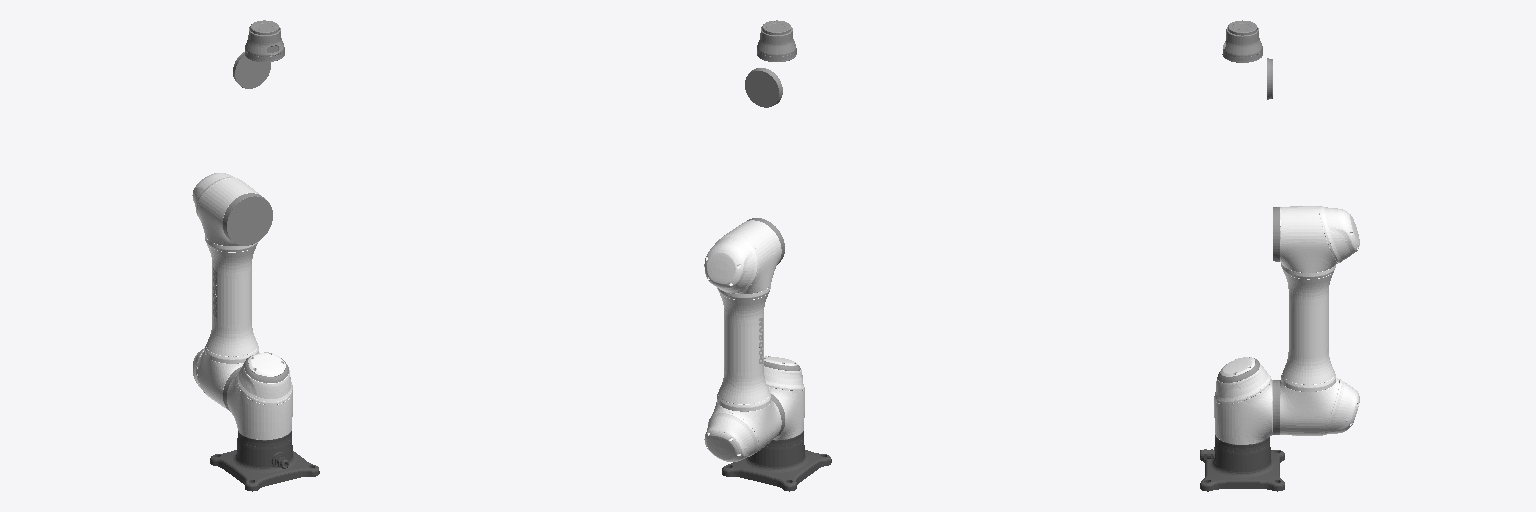
URDF robot description (a0509):
<?xml version="1.0"?>
<robot name="a0509" xmlns:xacro="http://www.ros.org/wiki/xacro">
		<link name="base_link">
			<inertial>
				<mass value="2.198"/>
				<origin xyz="-1e-06   -0.001096    0.058957"/>
				<inertia ixx="0.010511" ixy="4.9786e-06" ixz="7.1839e-06" iyy="0.012033"
					iyz="-2.3529e-05"
					izz="0.012481"/>
			</inertial>
			<collision>
				<origin rpy="0 0 0" xyz="0 0 0" />
                <geometry>
					<mesh filename="package://dsr_description2/meshes/a0509_collision/A0509_0_0.dae" scale="0.001 0.001 0.001" />
                </geometry>
            </collision>
			<visual>
				<origin rpy="0 0 0" xyz="0 0 0" />
				<geometry>
					<mesh filename="package://dsr_description2/meshes/a0509_white/A0509_0_0.dae" scale="0.001 0.001 0.001" />
				</geometry>
			</visual>
		</link>
		<link name="base"/>
		<joint name="base_link-base" type="fixed">
			<origin rpy="0 0 0" xyz="0 0 0.450"/>
			<parent link="base_link"/>
			<child link="base"/>
		</joint>
		<!-- joint 1 -->
		<joint name="joint_1" type="revolute">
			<parent link="base_link" />
			<child link="link_1" />
			<origin rpy="0 0 0" xyz="0 0 0.1560" />
			<axis xyz="0 0 1" />
			<limit effort="194" lower="-6.2832" upper="6.2832" velocity="3.1416"/>
			<dynamics friction="0" />
		</joint>
		<link name="link_1">
			<inertial>
				<mass value="3.715"/>
				<origin xyz="-6.9e-05    0.024423   -0.007375"/>
				<inertia ixx="0.01899" ixy="7.8574e-07" ixz="1.865e-05" iyy="0.013731" iyz="-0.00072828"
					izz="0.01686"/>
			</inertial>
            <collision>
				<origin rpy="0 0 0" xyz="0 0 0" />
                <geometry>
					<mesh filename="package://dsr_description2/meshes/a0509_collision/A0509_1_0.dae" scale="0.001 0.001 0.001" />
                </geometry>
            </collision>
			<visual>
				<origin rpy="0 0 0" xyz="0 0 0" />
				<geometry>
					<mesh filename="package://dsr_description2/meshes/a0509_white/A0509_1_0.dae" scale="0.001 0.001 0.001" />
				</geometry>
			</visual>
			<collision>
				<origin rpy="0 0 0" xyz="0 0 0" />
                <geometry>
					<mesh filename="package://dsr_description2/meshes/a0509_collision/A0509_1_1.dae" scale="0.001 0.001 0.001" />
                </geometry>
            </collision>
            <visual>
				<origin rpy="0 0 0" xyz="0 0 0" />
				<geometry>
					<mesh filename="package://dsr_description2/meshes/a0509_white/A0509_1_1.dae" scale="0.001 0.001 0.001" />
				</geometry>
			</visual>
			<collision>
				<origin rpy="0 0 0" xyz="0 0 0" />
                <geometry>
					<mesh filename="package://dsr_description2/meshes/a0509_collision/A0509_1_2.dae" scale="0.001 0.001 0.001" />
                </geometry>
            </collision>
            <visual>
				<origin rpy="0 0 0" xyz="0 0 0" />
				<geometry>
					<mesh filename="package://dsr_description2/meshes/a0509_white/A0509_1_2.dae" scale="0.001 0.001 0.001" />
				</geometry>
			</visual>
		</link>
		<!-- joint2 -->
		<joint name="joint_2" type="revolute">
			<parent link="link_1" />
			<child link="link_2" />
			<origin rpy="0 -1.571 -1.571" xyz="0 0 0" />
			<axis xyz="0 0 1" />
			<limit effort="194" lower="-6.2832" upper="6.2832" velocity="3.1416"/>
			<dynamics friction="0" />
		</joint>
		<link name="link_2">
			<inertial>
				<mass value="6.837"/>
				<origin xyz="0.20449 -1.2521e-17     0.13271"/>
				<inertia ixx="0.019399" ixy="0.00010317" ixz="4.2985e-06" iyy="0.25627" iyz="5.1674e-06"
					izz="0.25442"/>
			</inertial>
            <collision>
				<origin rpy="0 0 0" xyz="0 0 0" />
                <geometry>
					<mesh filename="package://dsr_description2/meshes/a0509_collision/A0509_2_0.dae" scale="0.001 0.001 0.001" />
                </geometry>
            </collision>
			<visual>
				<origin rpy="0 0 0" xyz="0 0 0" />
				<geometry>
					<mesh filename="package://dsr_description2/meshes/a0509_white/A0509_2_0.dae" scale="0.001 0.001 0.001" />
				</geometry>
			</visual>
			<collision>
				<origin rpy="0 0 0" xyz="0 0 0" />
                <geometry>
					<mesh filename="package://dsr_description2/meshes/a0509_collision/A0509_2_1.dae" scale="0.001 0.001 0.001" />
                </geometry>
            </collision>
			<visual>
				<origin rpy="0 0 0" xyz="0 0 0" />
				<geometry>
					<mesh filename="package://dsr_description2/meshes/a0509_white/A0509_2_1.dae" scale="0.001 0.001 0.001" />
				</geometry>
			</visual>
			<collision>
				<origin rpy="0 0 0" xyz="0 0 0" />
                <geometry>
					<mesh filename="package://dsr_description2/meshes/a0509_collision/A0509_2_2.dae" scale="0.001 0.001 0.001" />
                </geometry>
            </collision>
			<visual>
				<origin rpy="0 0 0" xyz="0 0 0" />
				<geometry>
					<mesh filename="package://dsr_description2/meshes/a0509_white/A0509_2_2.dae" scale="0.001 0.001 0.001" />
				</geometry>
			</visual>
		</link>
		<!-- joint3 -->
		<joint name="joint_3" type="revolute">
			<parent link="link_2" />
			<child link="link_3" />
			<origin rpy="0 0 1.571" xyz="0.409 0 0" />
			<axis xyz="0 0 1" />
			<limit effort="163" lower="-2.7925" upper="2.7925" velocity="3.1416"/>
			<dynamics friction="0" />
		</joint>
		<link name="link_3">
			<inertial>
				<mass value="2.769"/>
				<origin xyz="7.1e-05   -0.005123    0.033009"/>
				<inertia ixx="0.012526" ixy="-7.1869e-06" ixz="1.3345e-05" iyy="0.013868"
					iyz="-0.00047287"
					izz="0.0088186"/>
			</inertial>
			<collision>
				<origin rpy="0 0 0" xyz="0 0 0" />
                <geometry>
					<mesh filename="package://dsr_description2/meshes/a0509_collision/A0509_3_0.dae" scale="0.001 0.001 0.001" />
                </geometry>
            </collision>
			<visual>
				<origin rpy="0 0 0" xyz="0 0 0" />
				<geometry>
					<mesh filename="package://dsr_description2/meshes/a0509_white/A0509_3_0.dae" scale="0.001 0.001 0.001" />
				</geometry>
			</visual>
			<collision>
				<origin rpy="0 0 0" xyz="0 0 0" />
                <geometry>
					<mesh filename="package://dsr_description2/meshes/a0509_collision/A0509_3_1.dae" scale="0.001 0.001 0.001" />
                </geometry>
            </collision>
            <visual>
				<origin rpy="0 0 0" xyz="0 0 0" />
				<geometry>
					<mesh filename="package://dsr_description2/meshes/a0509_white/A0509_3_1.dae" scale="0.001 0.001 0.001" />
				</geometry>
			</visual>
		</link>
		<!-- joint4 -->
		<joint name="joint_4" type="revolute">
			<parent link="link_3" />
			<child link="link_4" />
			<origin rpy="1.571 0 0" xyz="0 -0.367 0" />
			<axis xyz="0 0 1" />
			<limit effort="50" lower="-6.2832" upper="6.2832" velocity="6.2832"/>
			<dynamics friction="0" />
		</joint>
		<link name="link_4">
			<inertial>
				<mass value="2.679"/>
				<origin xyz="-8.6e-05    0.086348   -0.086031"/>
				<inertia ixx="0.056068" ixy="2.2109e-05" ixz="1.4522e-05" iyy="0.047122" iyz="-0.014997"
					izz="0.013329"/>
			</inertial>
            <collision>
				<origin rpy="0 0 0" xyz="0 0 0" />
                <geometry>
					<mesh filename="package://dsr_description2/meshes/a0509_collision/A0509_4_0.dae" scale="0.001 0.001 0.001" />
                </geometry>
            </collision>
			<visual>
				<origin rpy="0 0 0" xyz="0 0 0" />
				<geometry>
					<mesh filename="package://dsr_description2/meshes/a0509_white/A0509_4_0.dae" scale="0.001 0.001 0.001" />
				</geometry>
			</visual>
			<collision>
				<origin rpy="0 0 0" xyz="0 0 0" />
                <geometry>
					<mesh filename="package://dsr_description2/meshes/a0509_collision/A0509_4_1.dae" scale="0.001 0.001 0.001" />
                </geometry>
            </collision>
			<visual>
				<origin rpy="0 0 0" xyz="0 0 0" />
				<geometry>
					<mesh filename="package://dsr_description2/meshes/a0509_white/A0509_4_1.dae" scale="0.001 0.001 0.001" />
				</geometry>
			</visual>
		</link>
		<!-- joint5 -->
		<joint name="joint_5" type="revolute">
			<parent link="link_4" />
			<child link="link_5" />
			<origin rpy="-1.571 0 0" xyz="0 0 0" />
			<axis xyz="0 0 1" />
			<limit effort="50" lower="-6.2832" upper="6.2832" velocity="6.2832"/>
			<dynamics friction="0" />
		</joint>
		<link name="link_5">
			<inertial>
				<mass value="2.051"/>
				<origin xyz="9.1e-05   -0.006457    0.015434"/>
				<inertia ixx="0.0090788" ixy="-5.3997e-06" ixz="8.3955e-06" iyy="0.0084721"
					iyz="-0.0001816"
					izz="0.010453"/>
			</inertial>
            <collision>
				<origin rpy="0 0 0" xyz="0 0 0" />
                <geometry>
					<mesh filename="package://dsr_description2/meshes/a0509_collision/A0509_5_0.dae" scale="0.001 0.001 0.001" />
                </geometry>
            </collision>
			<visual>
				<origin rpy="0 0 0" xyz="0 0 0" />
				<geometry>
					<mesh filename="package://dsr_description2/meshes/a0509_white/A0509_5_0.dae" scale="0.001 0.001 0.001" />
				</geometry>
			</visual>
			<collision>
				<origin rpy="0 0 0" xyz="0 0 0" />
                <geometry>
					<mesh filename="package://dsr_description2/meshes/a0509_collision/A0509_5_1.dae" scale="0.001 0.001 0.001" />
                </geometry>
            </collision>
            <visual>
				<origin rpy="0 0 0" xyz="0 0 0" />
				<geometry>
					<mesh filename="package://dsr_description2/meshes/a0509_white/A0509_5_1.dae" scale="0.001 0.001 0.001" />
				</geometry>
			</visual>
		</link>
		<!-- joint6 -->
		<joint name="joint_6" type="revolute">
			<parent link="link_5" />
			<child link="link_6" />
			<origin rpy="1.571 0 0" xyz="0 -0.124 0" />
			<axis xyz="0 0 1" />
			<limit effort="50" lower="-6.2832" upper="6.2832" velocity="6.2832"/>
			<dynamics friction="0" />
		</joint>
		<link name="link_6">
			<inertial>
				<mass value="0.773"/>
				<origin xyz="-2.2e-05      -7e-06   -0.051746"/>
				<inertia ixx="0.0087483" ixy="7.9428e-06" ixz="1.7034e-06" iyy="0.0078566"
					iyz="9.6857e-06"
					izz="0.0044452"/>
			</inertial>
			<collision>
				<origin rpy="0 0 0" xyz="0 0 0" />
                <geometry>
					<mesh filename="package://dsr_description2/meshes/a0509_collision/A0509_6_0.dae" scale="0.001 0.001 0.001" />
                </geometry>
            </collision>
			<visual>
				<origin rpy="0 0 0" xyz="0 0 0" />
				<geometry>
					<mesh filename="package://dsr_description2/meshes/a0509_white/A0509_6_0.dae" scale="0.001 0.001 0.001" />
				</geometry>
			</visual>
		</link>
		<link name="tool0"/>
		<joint name="joint_6-tool0" type="fixed">
			<origin rpy="3.1415926535 -1.570796327 0" xyz="0 0 0"/>
			<parent link="link_6"/>
			<child link="tool0"/>
		</joint>
</robot>

--- What the picture shows (computed from the rendered views, not written in the file) ---
Views: 3 orthographic renders of the robot side by side, from view 1: azimuth 30°, elevation 25°; view 2: azimuth 150°, elevation 25°; view 3: azimuth 270°, elevation 25°.
Model a0509 with 9 links and 8 joints (6 revolute, 2 fixed), rooted at base_link, posed all joints at 0.
Links seen in each view (by area): view 1: link_2, link_1, base_link, link_3, link_6, link_5; view 2: link_2, base_link, link_1, link_6, link_5; view 3: link_2, link_1, base_link, link_6.
Link boxes in pixels (bbox=[...]): link_2: bbox=[192, 173, 259, 409]; link_1: bbox=[223, 352, 292, 439]; base_link: bbox=[210, 431, 319, 491]; link_3: bbox=[223, 193, 272, 245]; link_6: bbox=[245, 20, 284, 61]; link_5: bbox=[233, 52, 270, 88]; link_2: bbox=[704, 220, 781, 461]; base_link: bbox=[722, 431, 831, 491]; link_1: bbox=[764, 356, 804, 439]; link_6: bbox=[757, 20, 796, 61]; link_5: bbox=[745, 68, 782, 107]; link_2: bbox=[1280, 206, 1359, 435]; link_1: bbox=[1214, 357, 1279, 444]; base_link: bbox=[1200, 435, 1284, 491]; link_6: bbox=[1222, 20, 1262, 62].
Bounding box of the posed robot: 0.182 × 0.342 × 1.06 m (x, y, z).
Meshes: 14 distinct files referenced, 10 mesh visuals loaded (10 Collada DAE); not drawn: 4 (reference not matched to a file when rendering).
